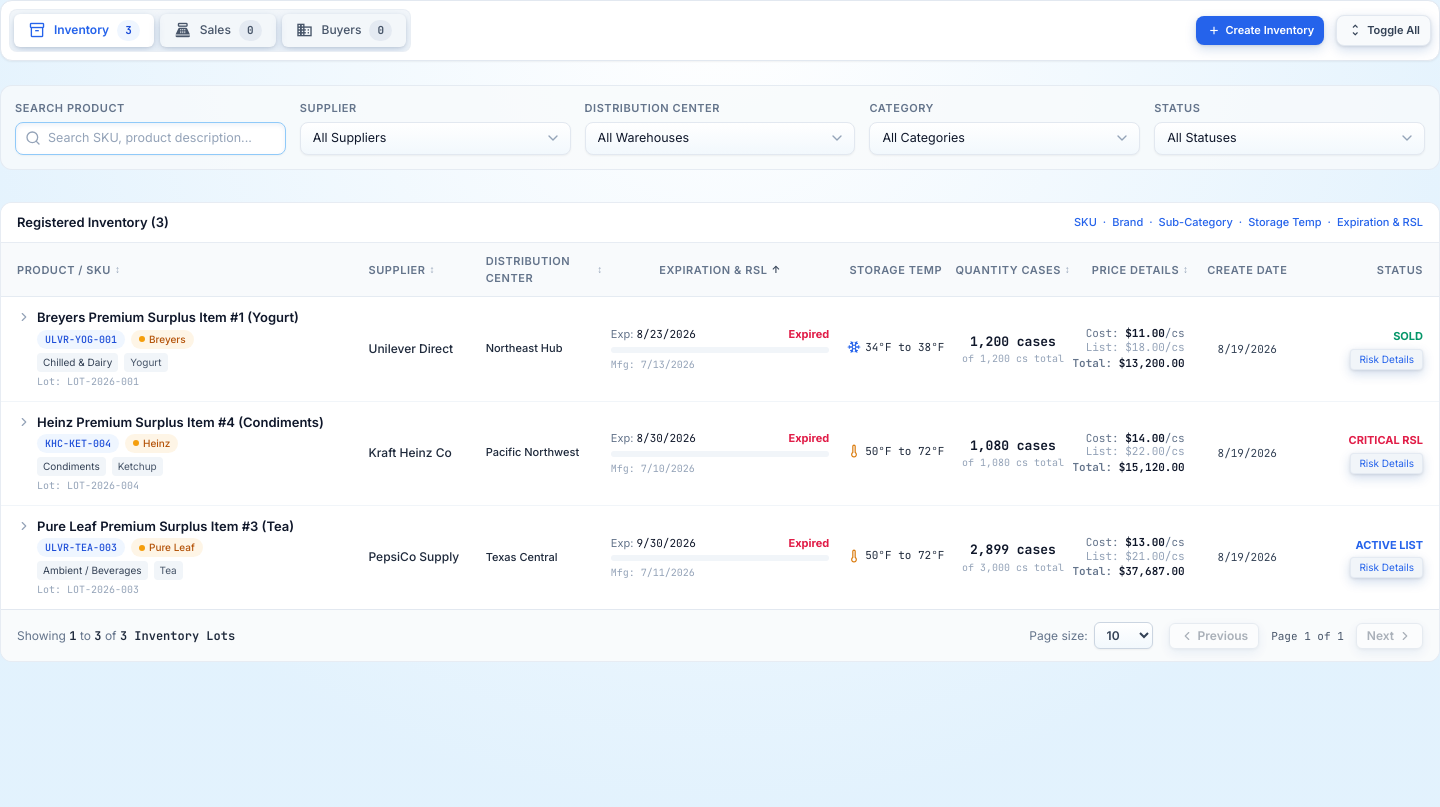
Test: Issue #0121: Slice 3 - Inventory Pipeline Modern Grid & Progressive Inspection Drawer › 4. Master "Toggle All" Synchronization › master Toggle All button expands all visible rows if any are closed, and collapses all if all are open, synchronizing its label
Expected: the text "Toggle All" is shown, [1367,22,1420,38]
Click the button "Toggle All" at (1384, 30), box [1336,15,1431,46]
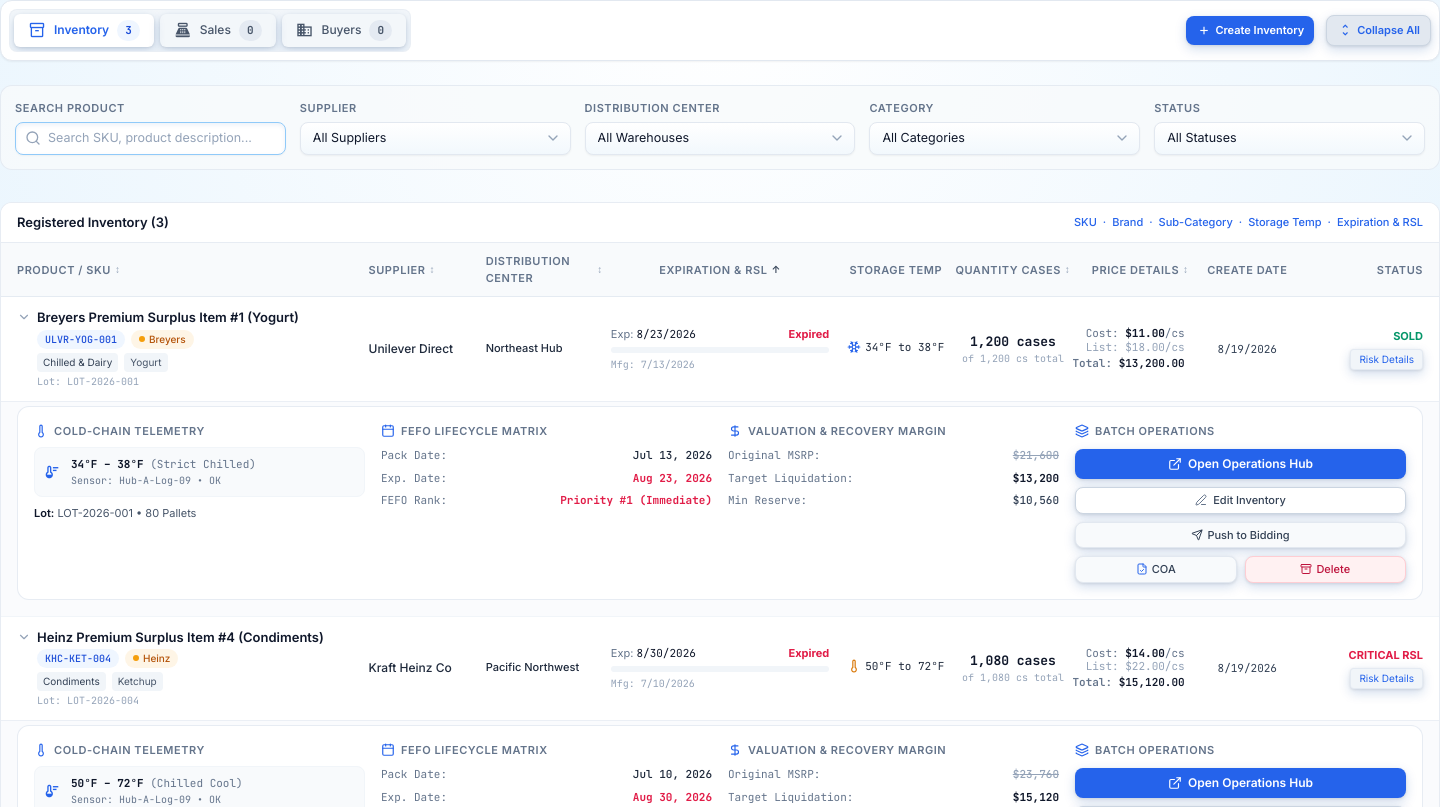
Expected: the text "Cold-Chain Telemetry" is shown 3 times
Expected: the text "Collapse All" is shown, [1357,22,1420,38]
Click the button named "toggle all" at (1379, 30), box [1326,15,1431,46]
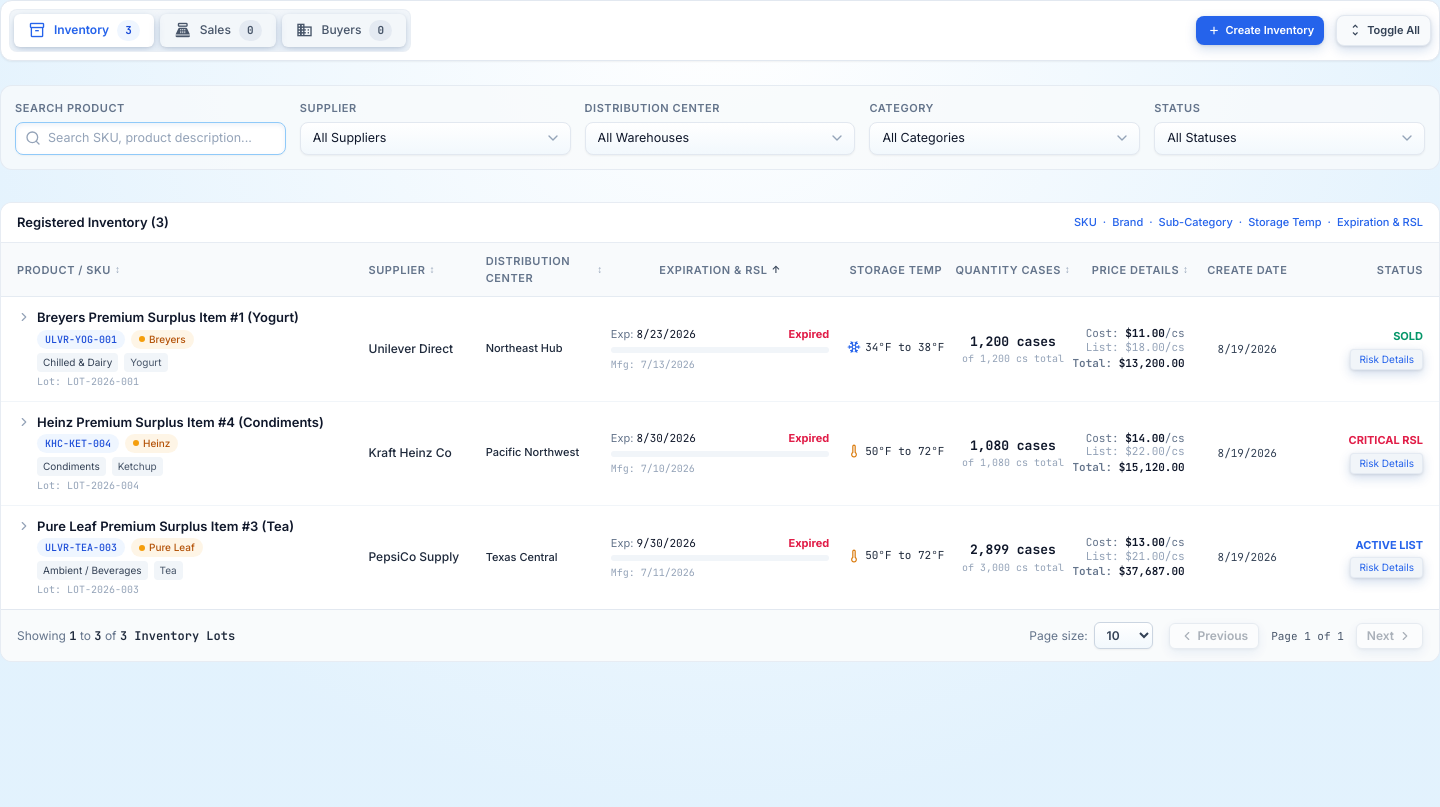
Expected: the text "Cold-Chain Telemetry" is not shown
Expected: the text "Toggle All" is shown, [1367,22,1420,38]
